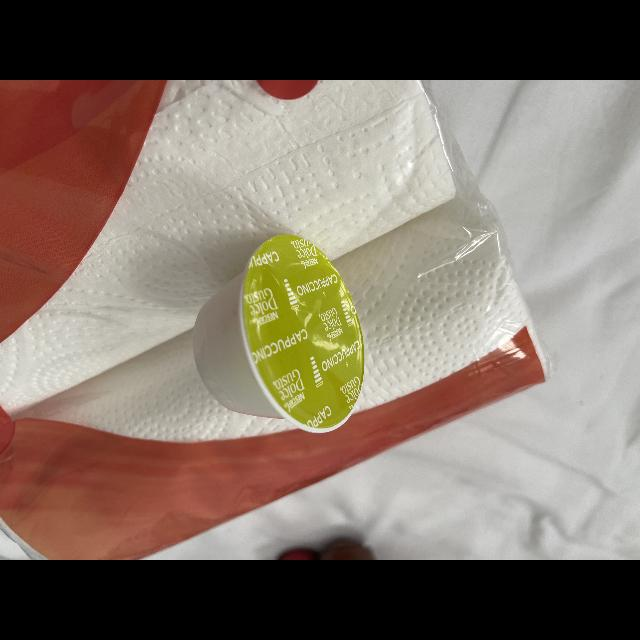intact_capsule: (187, 223, 369, 437)
